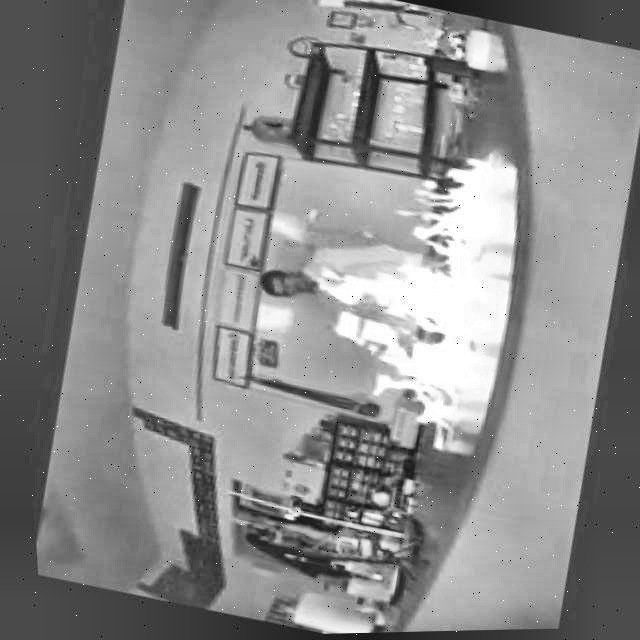Fire: (265, 110, 515, 445)
